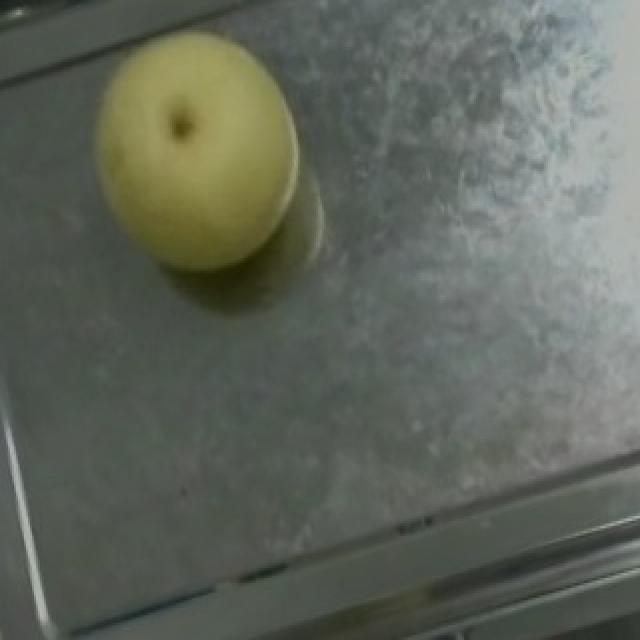Fruit: (44, 0, 342, 310)
